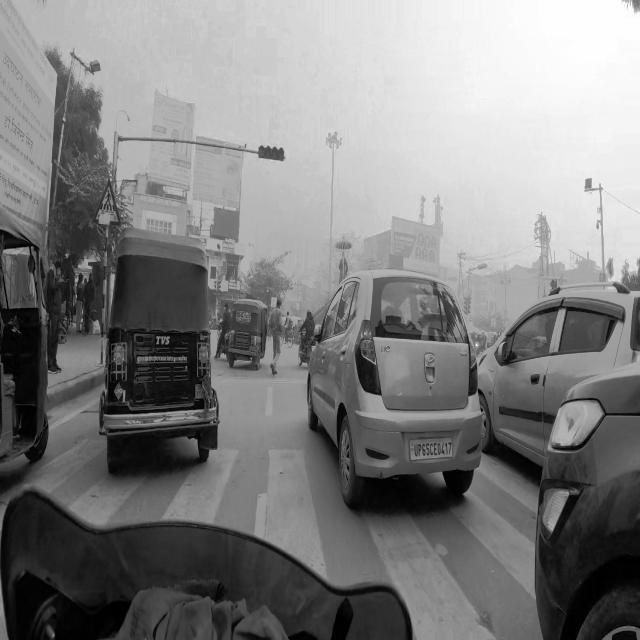Auto-Rickshaw: (98, 223, 222, 482), (0, 201, 65, 475), (228, 300, 276, 376)
Car: (310, 268, 486, 520), (538, 363, 640, 640), (476, 292, 640, 462)
